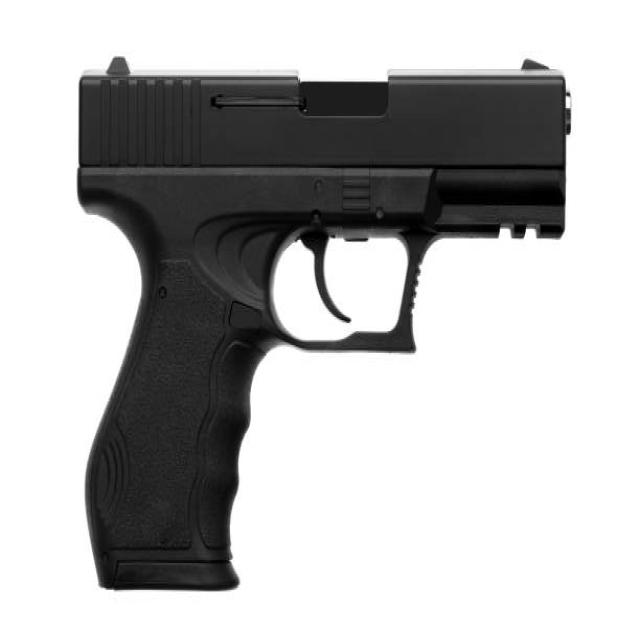pistol: (72, 52, 582, 604)
